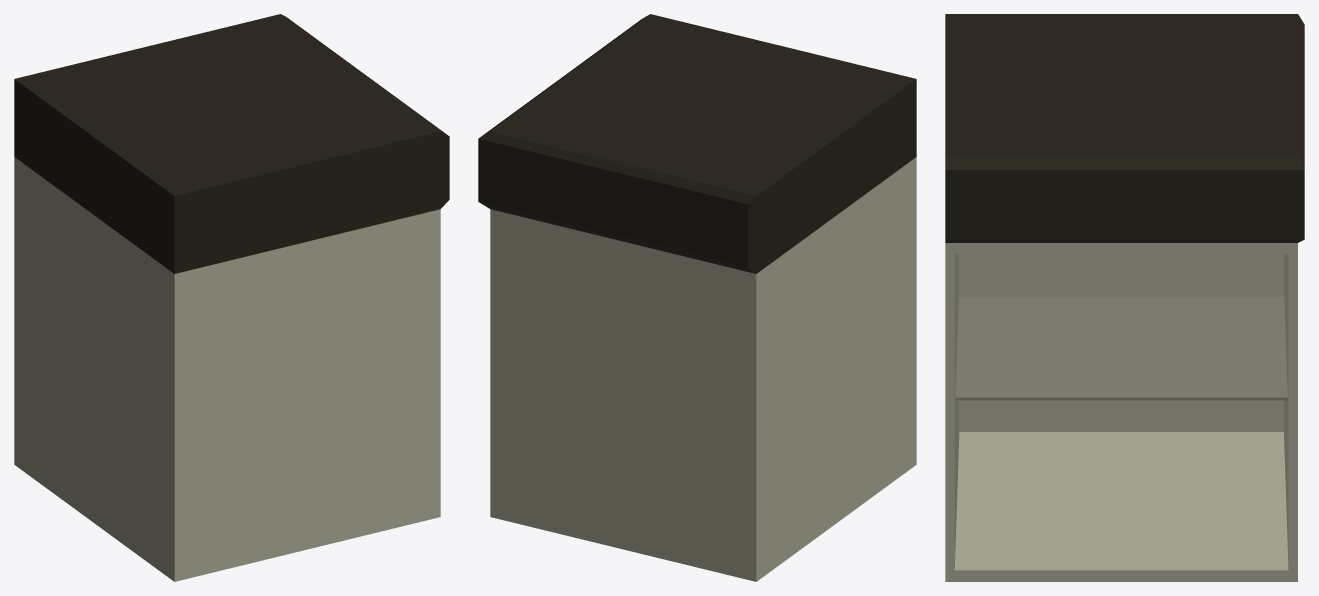
File: UpperCabinetBase(RightEdge)V1.fbx
3 views of the same model, side by side, from view 1: azimuth 30°, elevation 25°; view 2: azimuth 150°, elevation 25°; view 3: azimuth 270°, elevation 25° (orthographic). The views are drawn at different scales.
Visible parts, largest first — view 1: Cube; view 2: Cube; view 3: Cube.
Part boxes in pixels (bbox=[...]): Cube: bbox=[14, 14, 449, 581]; Cube: bbox=[478, 14, 916, 581]; Cube: bbox=[945, 14, 1304, 581].
Bounding box in the file's own units: 637 × 619 × 830.
